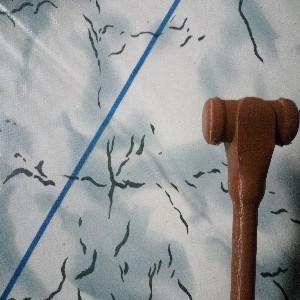palu: (202, 95, 300, 300)
